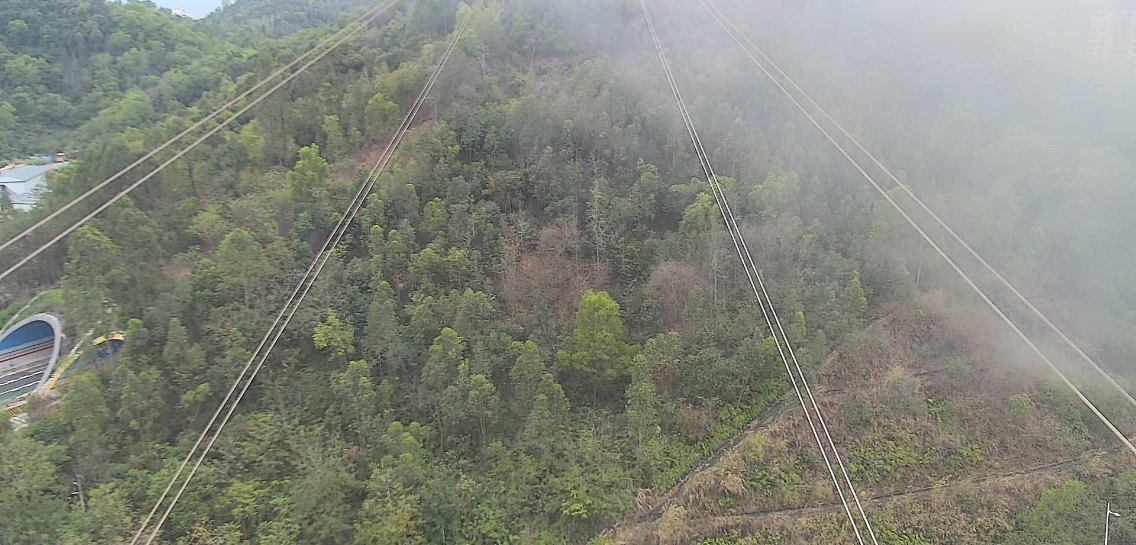山间云雾: (550, 0, 1135, 400)
